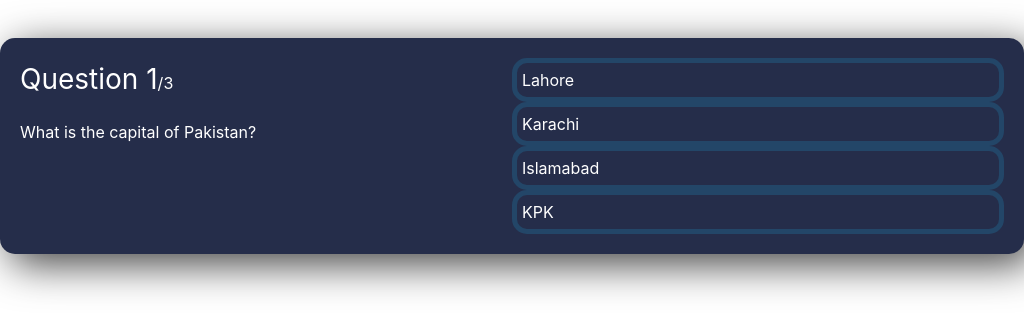
Scenario: renders scoreboard after all questions have been selected.
expect the text "Question 1" is shown: met, box [20,62,158,96]
Click the button "Lahore" at (548, 80), box [512,58,1004,102]
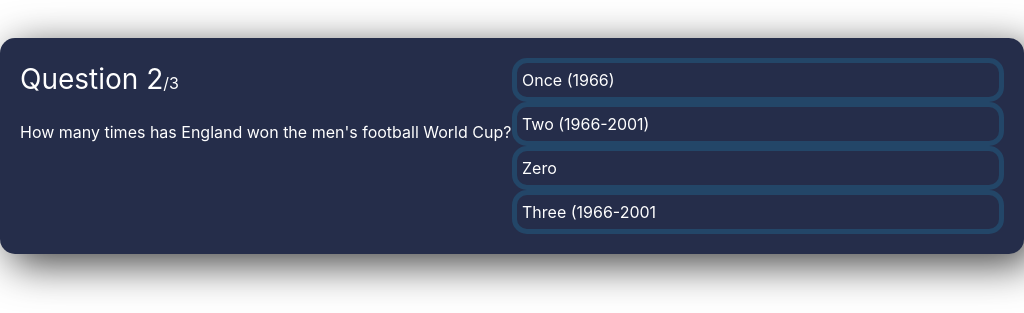
expect the text "Question 2" is shown: met, box [20,62,163,96]
Click the button "Zero" at (539, 168), box [512,146,1004,190]
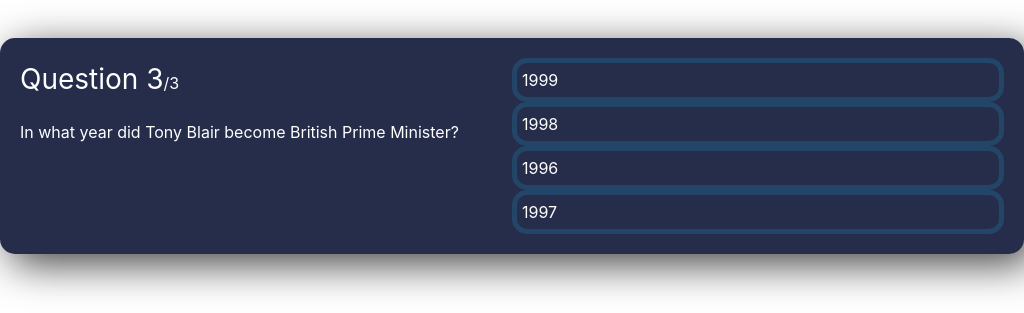
expect the text "Question 3" is shown: met, box [20,62,164,96]
Click the button "1999" at (540, 80), box [512,58,1004,102]
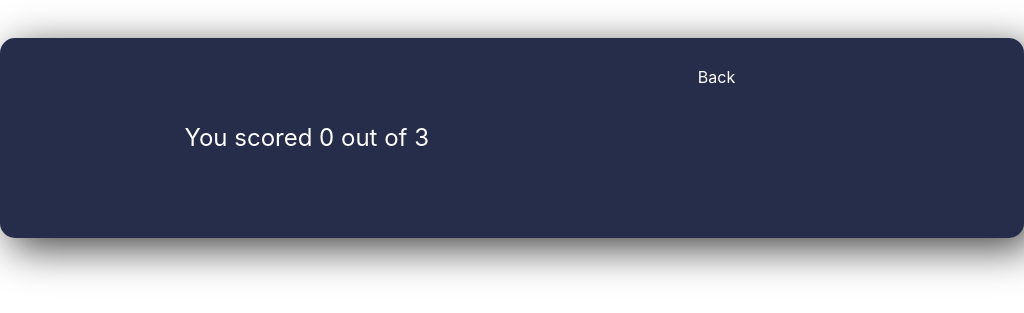
expect the text "You scored 0 out of 3" is shown: met, box [184,123,429,152]
